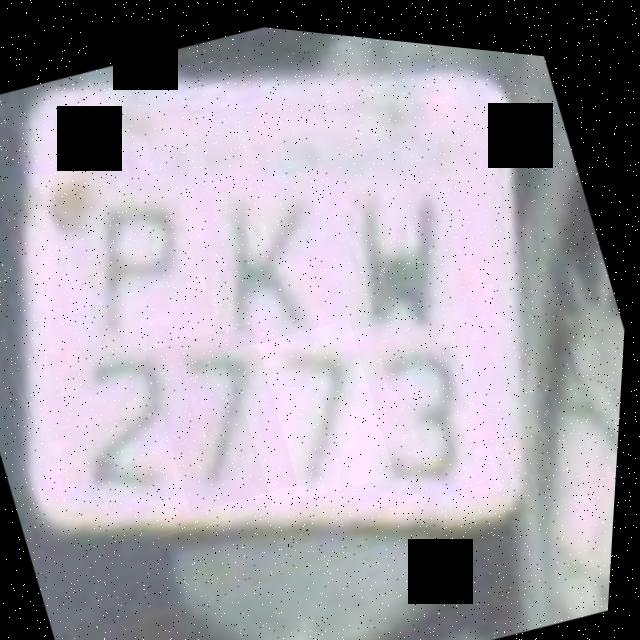2: (32, 309, 231, 535)
3: (305, 283, 524, 529)
7: (224, 302, 407, 510), (141, 310, 312, 516)
P: (55, 154, 224, 366)
